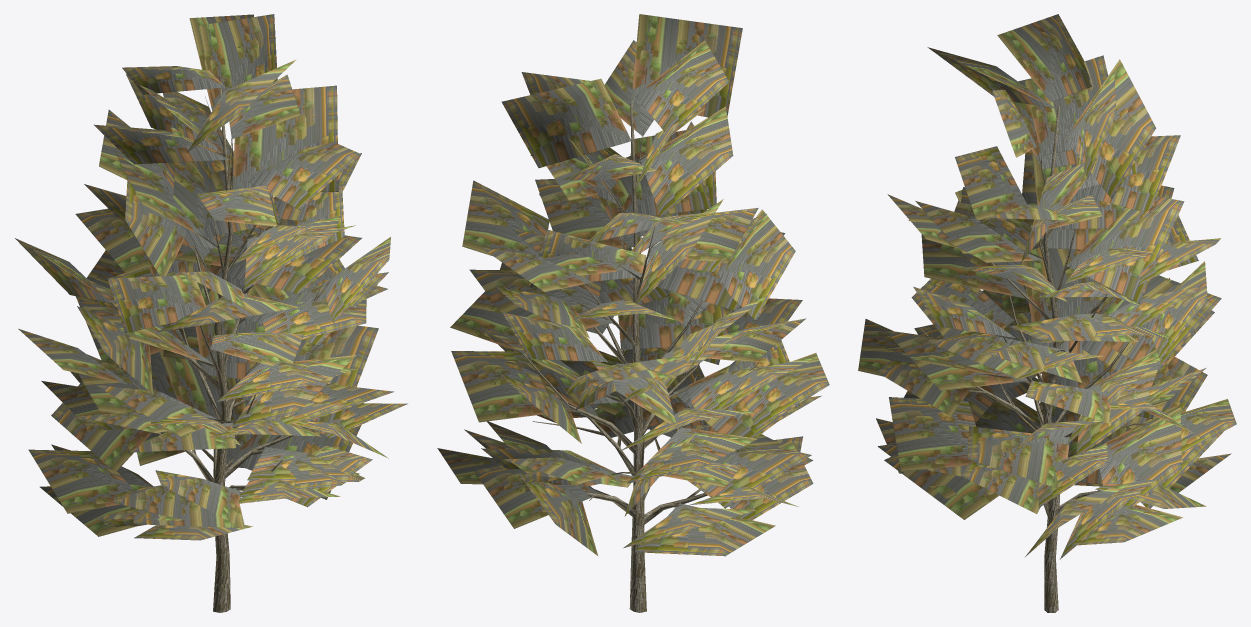
The model's file is Maple_1.fbx.
3 renders of one model, left to right at view 1: azimuth 30°, elevation 25°; view 2: azimuth 150°, elevation 25°; view 3: azimuth 270°, elevation 25°, orthographic. The views are drawn at different scales.
Visible parts, largest first — view 1: Tree_1, Tree_0; view 2: Tree_1, Tree_0; view 3: Tree_1, Tree_0.
Boxes of the visible parts, <box> form: Tree_1: <box>15,14,407,540</box>; Tree_0: <box>90,72,351,612</box>; Tree_1: <box>437,14,829,556</box>; Tree_0: <box>521,86,760,612</box>; Tree_1: <box>858,14,1236,559</box>; Tree_0: <box>920,94,1170,612</box>.
Bounding box in the file's own units: 155 × 248 × 153.
2 materials, 2 textured.
